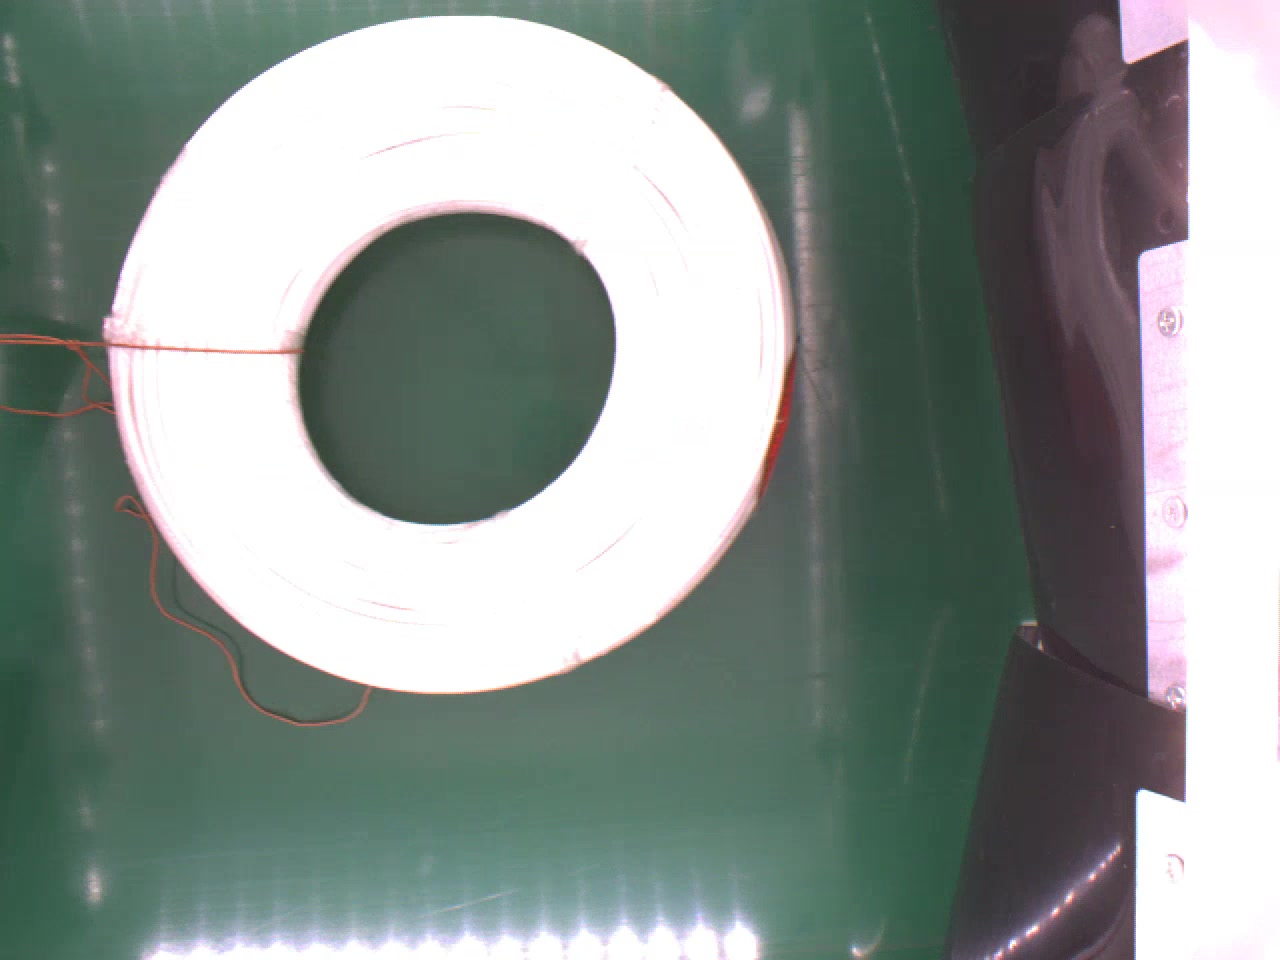white: (104, 14, 794, 692)
